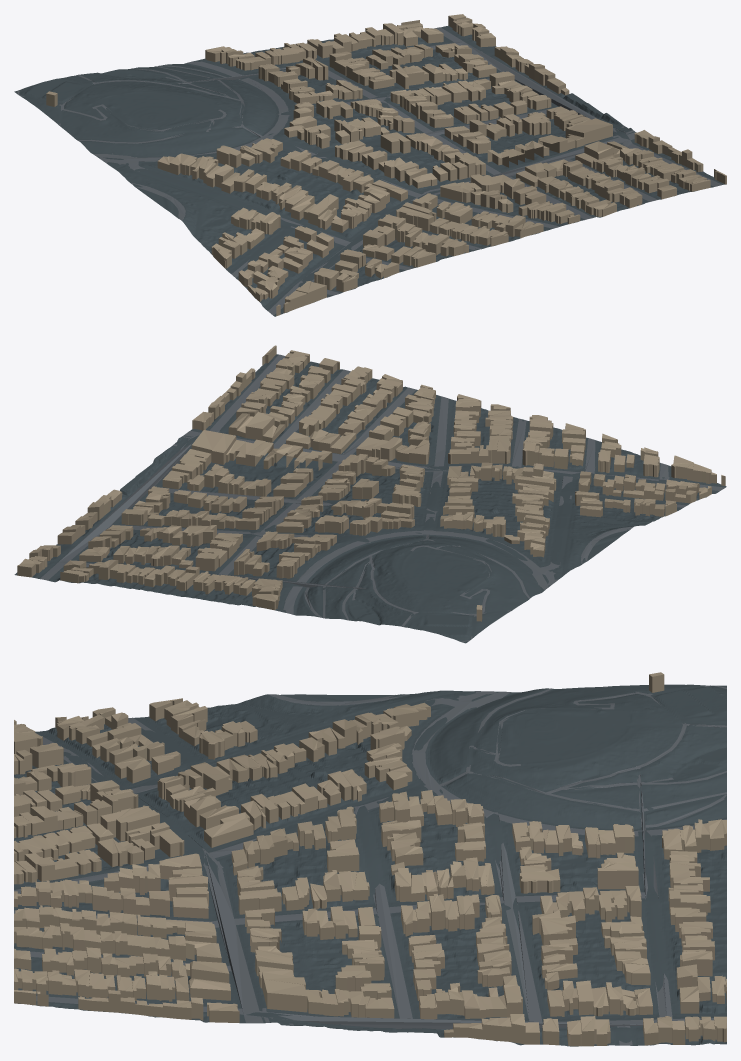
Rendered from epsg26910-1435-10877.lod0.glb.
The picture shows the model from 3 angles, top to bottom: view 1: azimuth 30°, elevation 25°; view 2: azimuth 150°, elevation 25°; view 3: azimuth 270°, elevation 25°; orthographic projection. The views are drawn at different scales.
Parts seen in each view (by area): view 1: epsg26910-1435-10877-lod0; view 2: epsg26910-1435-10877-lod0; view 3: epsg26910-1435-10877-lod0.
Part boxes in pixels (x1=…): epsg26910-1435-10877-lod0: x1=14, y1=14, x2=726, y2=316; epsg26910-1435-10877-lod0: x1=14, y1=345, x2=726, y2=643; epsg26910-1435-10877-lod0: x1=14, y1=672, x2=726, y2=1046.
Size of the model in its own units: 384 by 47.19 by 384.
